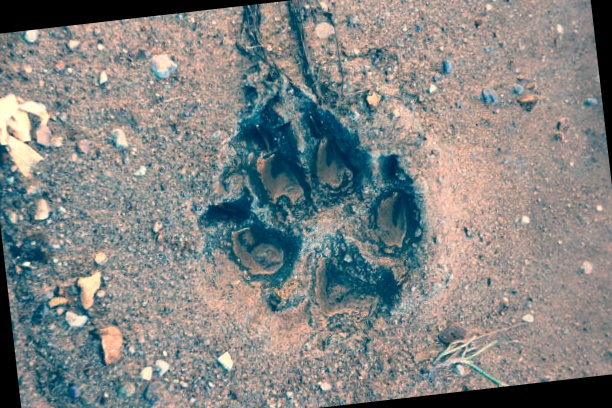loup: (146, 35, 427, 351)
